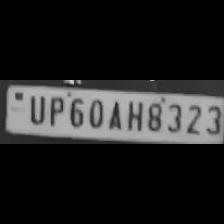0: (86, 96, 104, 128)
2: (182, 102, 202, 134)
3: (202, 101, 222, 135), (164, 100, 182, 132)
6: (64, 94, 84, 128)
8: (144, 100, 162, 132)
A: (105, 96, 123, 130)
H: (124, 97, 142, 130)
P: (44, 93, 64, 125)
U: (25, 92, 45, 124)
